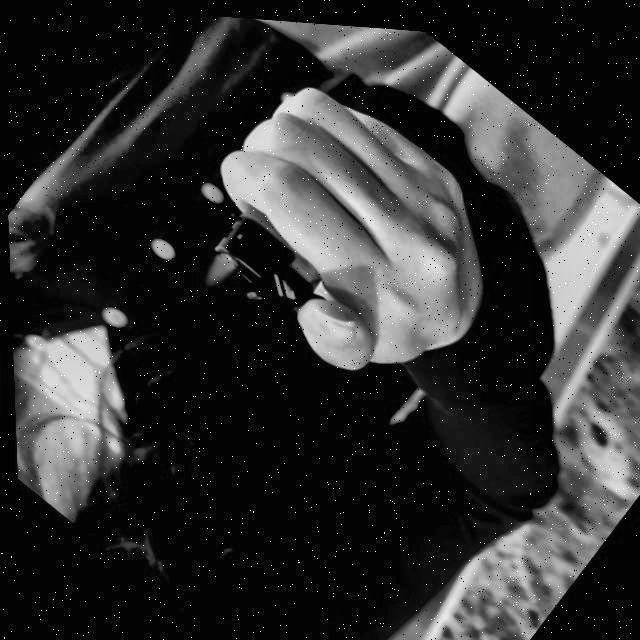Fire: (191, 241, 241, 296)
